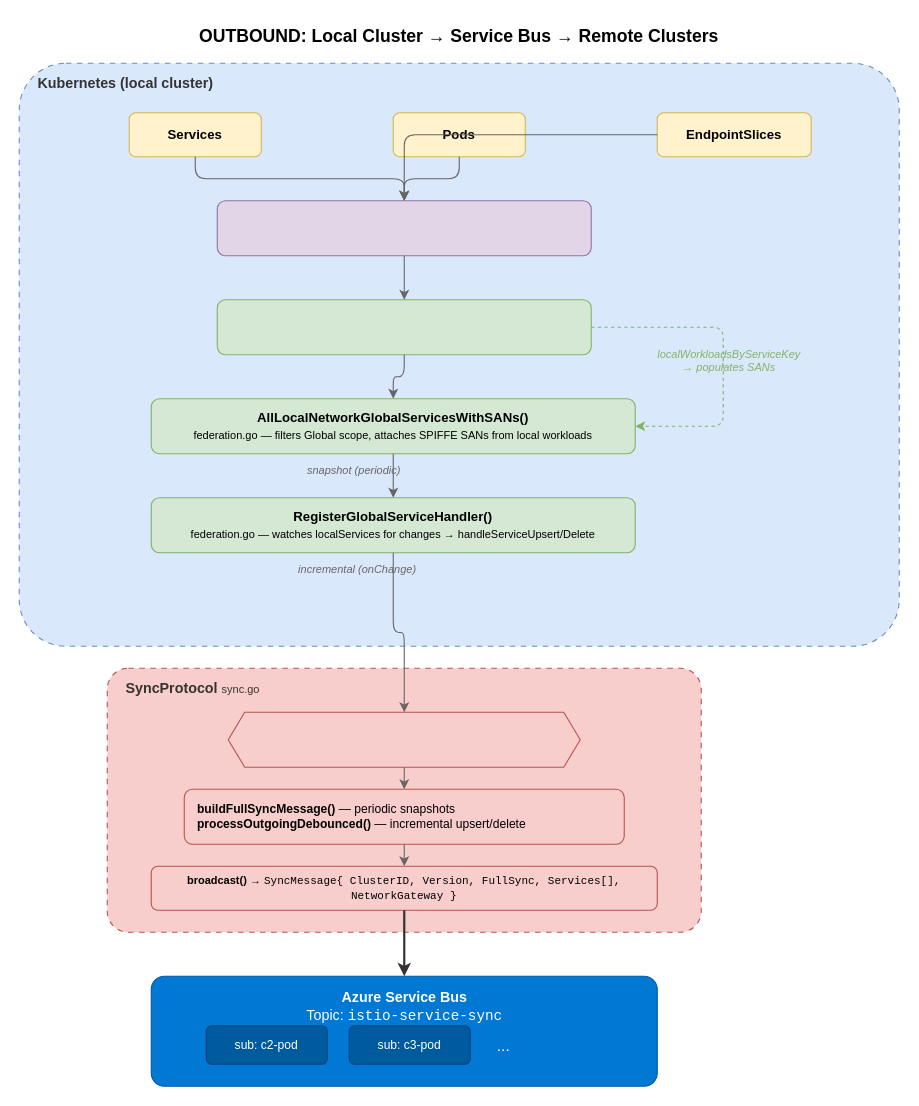
This 919x1106 diagram has some shape labels left out. Here are the shapes that lost their labels. From the top down, the centre of each, then its label:
At pixel 403 228: "krt Informers + buildGlobalCollections multicluster.go".
At pixel 403 327: "index.localServices pre-federation — never includes federated data".
At pixel 403 739: "Leader Election Gate Only leader publishes — BecomeLeader() / StopLeading()".
